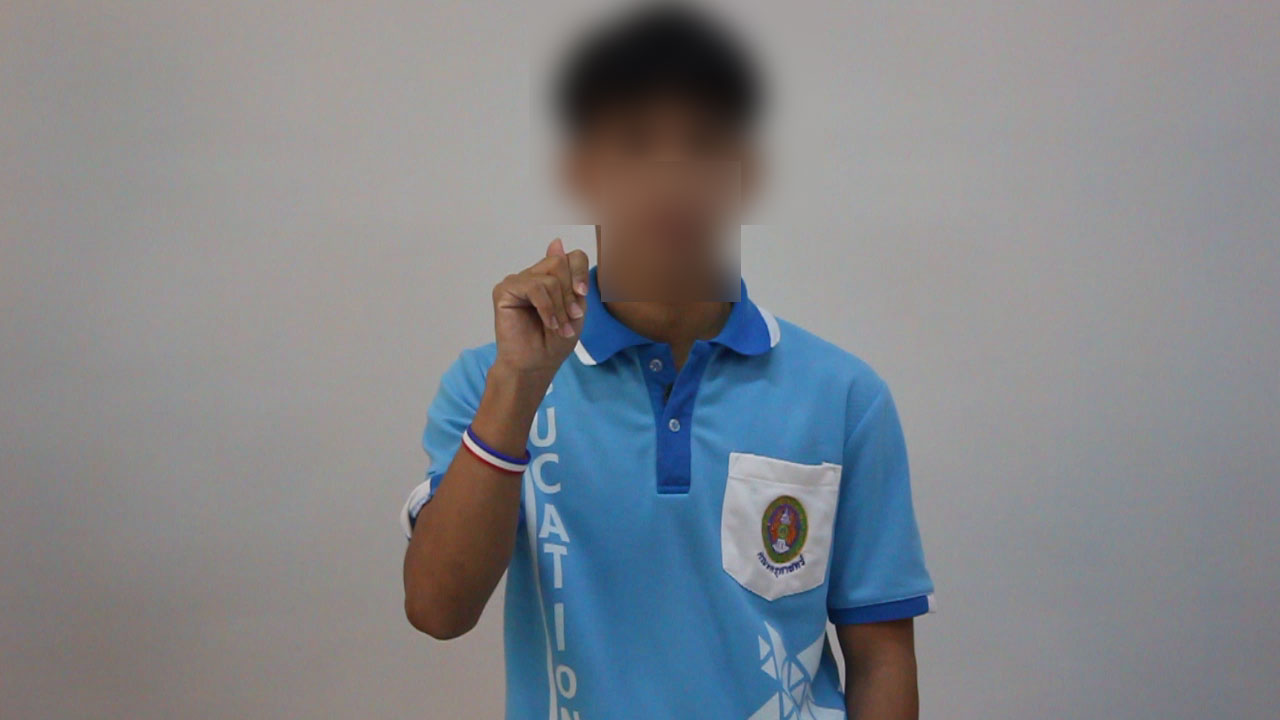tor: (473, 219, 625, 405)
